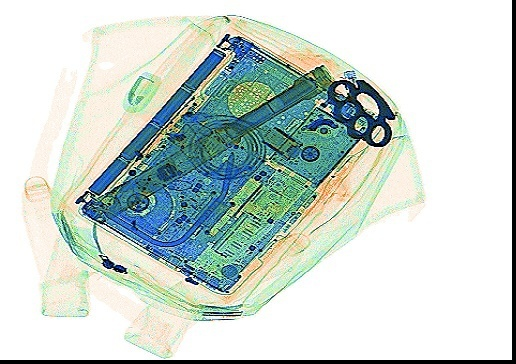lighter: (339, 66, 358, 104)
